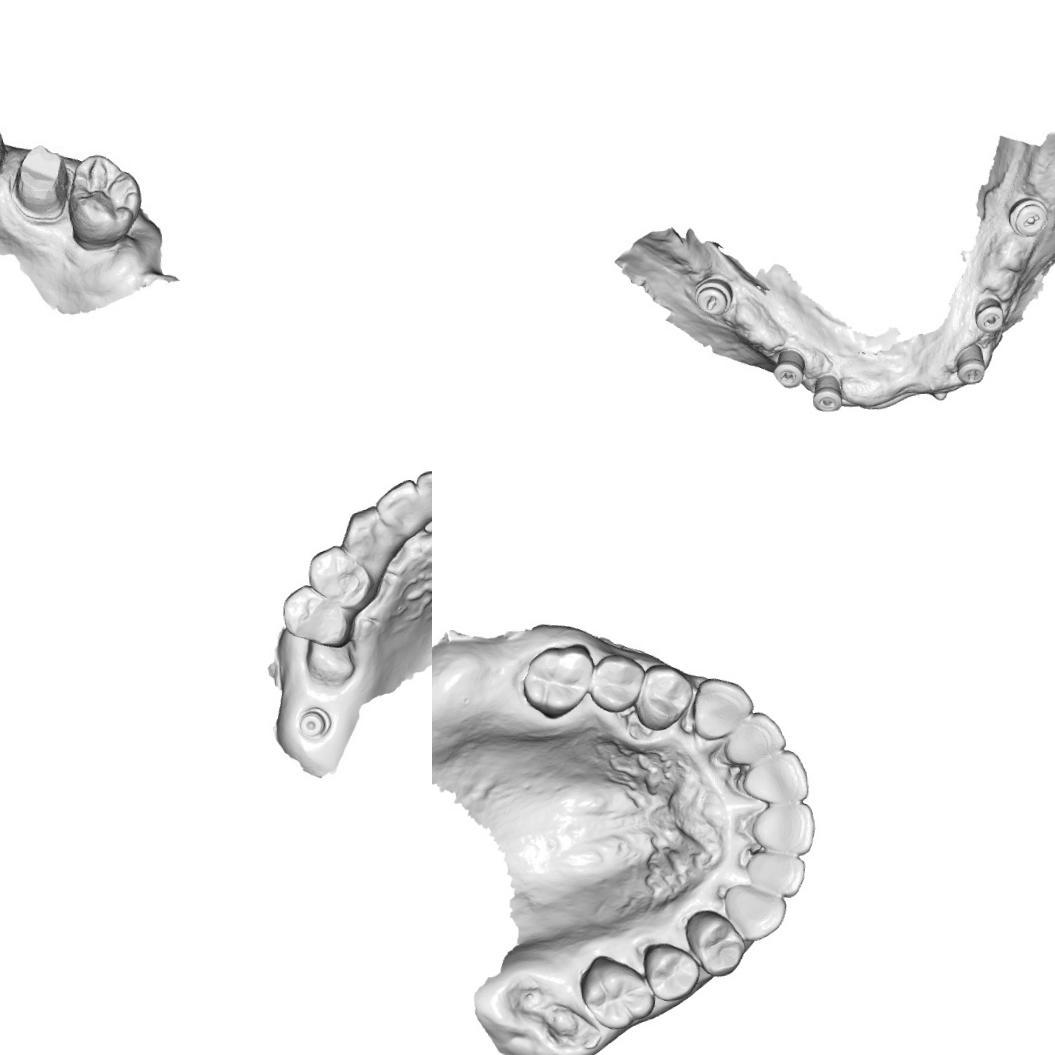canine: (687, 672, 757, 742), (718, 877, 789, 946), (334, 502, 394, 561)
crown: (13, 144, 68, 219)
implant: (294, 702, 333, 742), (809, 372, 844, 414)
implant_minus: (1003, 181, 1050, 240), (690, 274, 734, 318), (952, 342, 988, 386), (972, 294, 1006, 335)
implant_plus: (769, 346, 808, 390)
incisor: (735, 746, 812, 808), (743, 798, 820, 859), (719, 706, 792, 769), (743, 847, 812, 902), (370, 477, 426, 538), (413, 462, 432, 519)
molar: (58, 148, 148, 252), (574, 949, 658, 1033), (518, 640, 598, 722)
premolar: (278, 580, 355, 652), (630, 660, 698, 734), (681, 905, 747, 981), (303, 541, 374, 611), (638, 935, 702, 1005), (586, 646, 648, 716)
